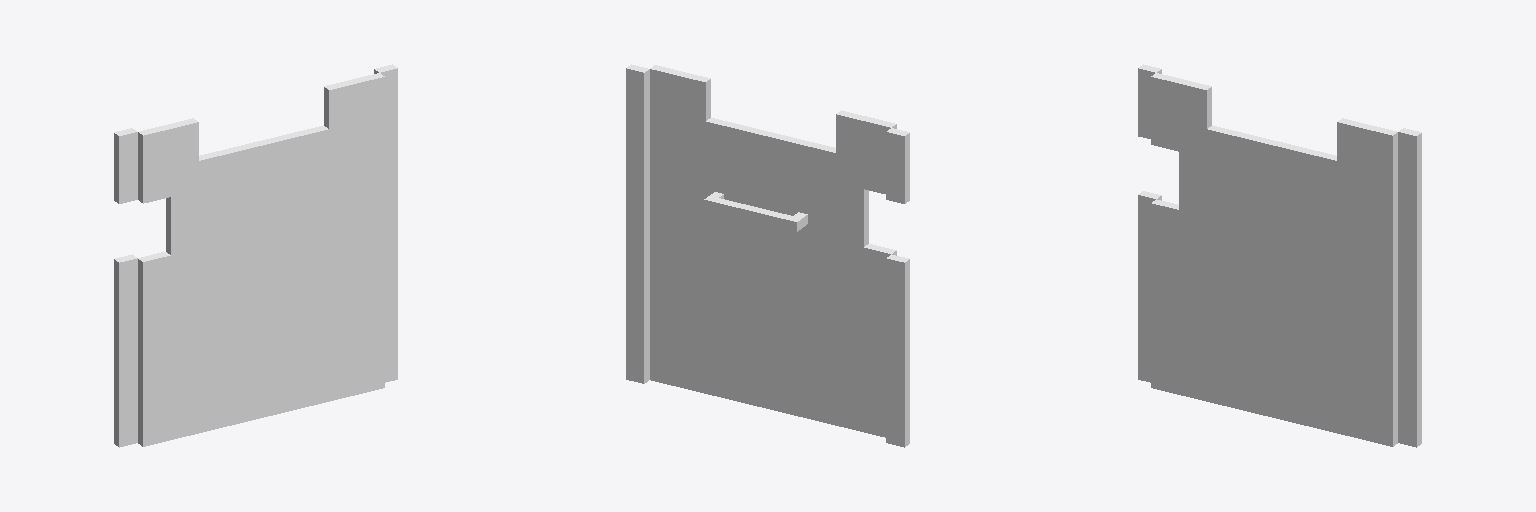
File: shild.obj
The picture shows the model from 3 angles: view 1: azimuth 30°, elevation 25°; view 2: azimuth 150°, elevation 25°; view 3: azimuth 330°, elevation 25°; orthographic projection.
Parts seen in each view (by area): view 1: object 1; view 2: object 1; view 3: object 1.
Part boxes in pixels (x1,y1,x2,y2): object 1: (114, 64, 397, 447); object 1: (626, 64, 909, 447); object 1: (1138, 64, 1421, 447).
Bounding box in the file's own units: 3 × 3.2 × 0.3.